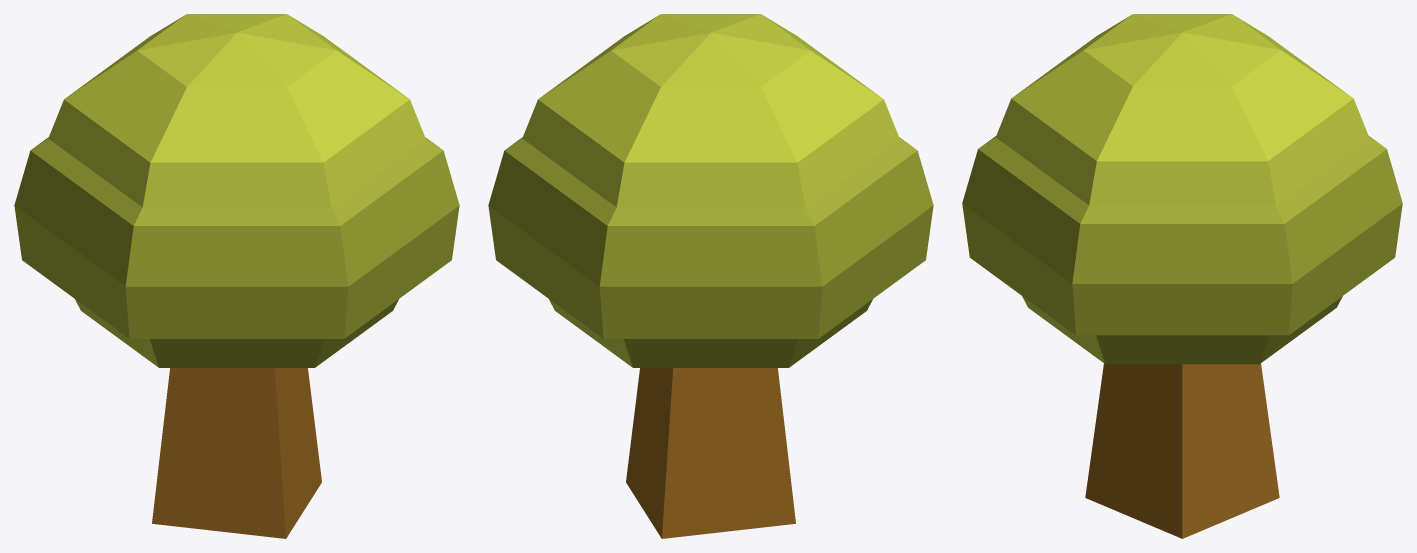
File: Tree.fbx
The picture shows the model from 3 angles, left to right: view 1: azimuth 30°, elevation 25°; view 2: azimuth 150°, elevation 25°; view 3: azimuth 270°, elevation 25°; orthographic projection.
Visible parts, largest first — view 1: Sphere.001, Sphere, Cube, Sphere.002; view 2: Sphere.001, Sphere, Cube, Sphere.002; view 3: Sphere.001, Sphere, Cube, Sphere.002.
Boxes of the visible parts, bbox=[...] form: Sphere.001: bbox=[14, 137, 459, 338]; Sphere: bbox=[48, 14, 425, 207]; Cube: bbox=[152, 368, 321, 538]; Sphere.002: bbox=[75, 299, 398, 367]; Sphere.001: bbox=[488, 137, 933, 338]; Sphere: bbox=[522, 14, 899, 207]; Cube: bbox=[626, 368, 795, 538]; Sphere.002: bbox=[549, 299, 872, 367]; Sphere.001: bbox=[962, 136, 1402, 335]; Sphere: bbox=[996, 14, 1368, 205]; Cube: bbox=[1085, 363, 1279, 538]; Sphere.002: bbox=[1022, 296, 1342, 364].
Size of the model in its own units: 162 by 218 by 187.
